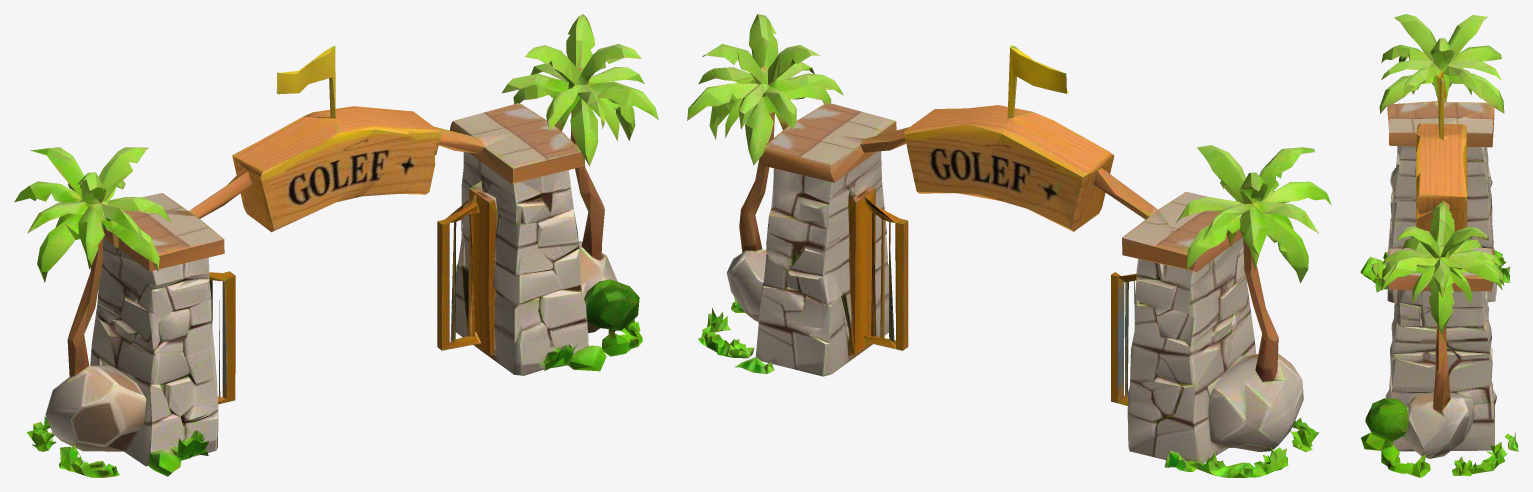
Rendered from archsign.glb.
The picture shows the model from 3 angles, left to right: view 1: azimuth 30°, elevation 25°; view 2: azimuth 150°, elevation 25°; view 3: azimuth 270°, elevation 25°; orthographic projection. The views are drawn at different scales.
Bounding box in the file's own units: 1.9 × 1.01 × 0.5128.
Materials: 1 (1 with a texture image).
